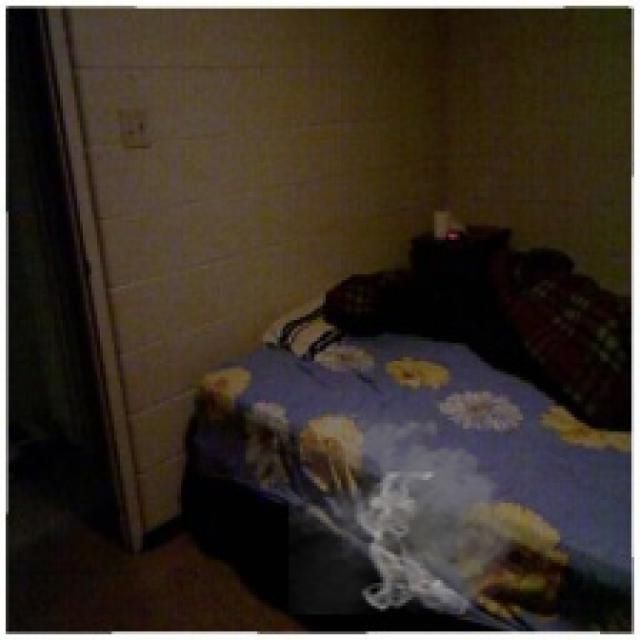Smoke: (288, 406, 534, 618)
